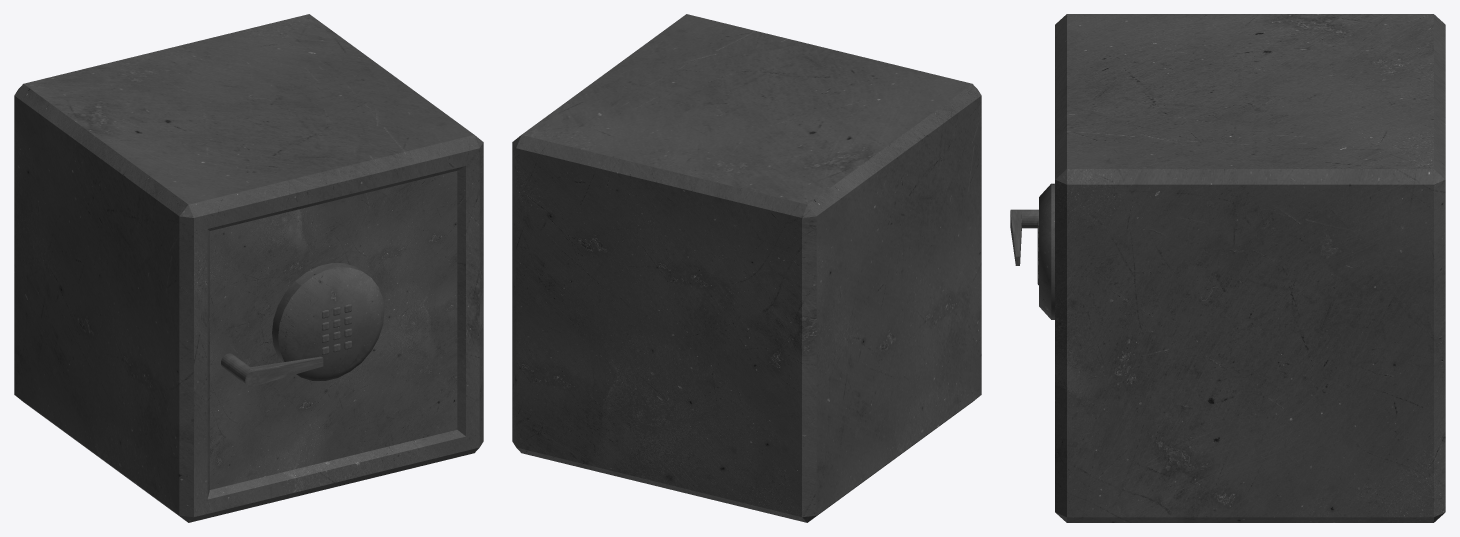
File: safe3.fbx
3 views of the same model, side by side, from view 1: azimuth 30°, elevation 25°; view 2: azimuth 150°, elevation 25°; view 3: azimuth 270°, elevation 25° (orthographic). The views are drawn at different scales.
Visible parts, largest first — view 1: Safe, Cube_2, Cylinder_2, Cube, Cylinder; view 2: Safe; view 3: Safe, Cylinder_2, Cube.
Boxes of the visible parts, x1,y1,x2,y2 form: Safe: [14, 14, 483, 522]; Cube_2: [210, 171, 457, 489]; Cylinder_2: [272, 263, 384, 380]; Cube: [248, 356, 323, 386]; Cylinder: [221, 353, 259, 386]; Safe: [512, 14, 981, 522]; Safe: [1055, 14, 1445, 522]; Cylinder_2: [1039, 183, 1054, 319]; Cube: [1010, 210, 1021, 265].
Size of the model in its own units: 200 by 200 by 223.
